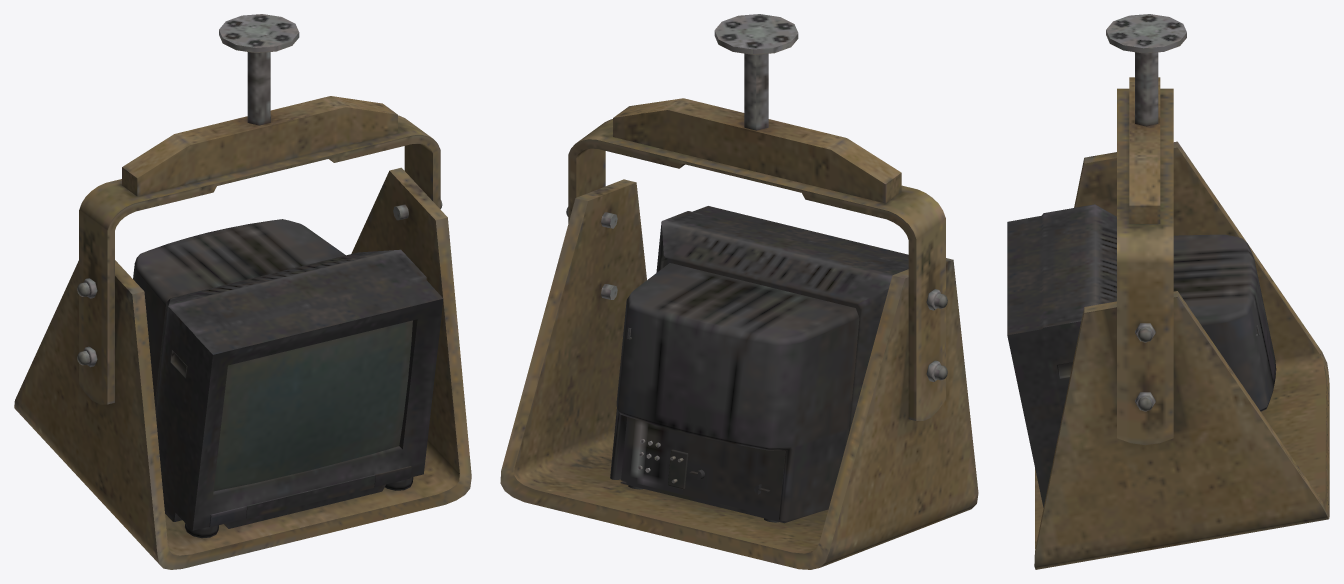
Rendered from 005_ceilingtv01a_00.fbx.
3 views of the same model, side by side, from view 1: azimuth 30°, elevation 25°; view 2: azimuth 150°, elevation 25°; view 3: azimuth 270°, elevation 25° (orthographic). The views are drawn at different scales.
Parts seen in each view (by area): view 1: LOD_1_Group_0_Sub_1__sm31_005_CeilingTV01A_A_Mat, LOD_1_Group_1_Sub_1__sm31_005_CeilingTV01A_A_Mat, LOD_1_Group_2_Sub_1__sm31_005_CeilingTV01A_A_Mat, LOD_1_Group_3_Sub_1__sm31_005_CeilingTV01A_A_Mat; view 2: LOD_1_Group_0_Sub_1__sm31_005_CeilingTV01A_A_Mat, LOD_1_Group_1_Sub_1__sm31_005_CeilingTV01A_A_Mat, LOD_1_Group_2_Sub_1__sm31_005_CeilingTV01A_A_Mat, LOD_1_Group_3_Sub_1__sm31_005_CeilingTV01A_A_Mat; view 3: LOD_1_Group_1_Sub_1__sm31_005_CeilingTV01A_A_Mat, LOD_1_Group_0_Sub_1__sm31_005_CeilingTV01A_A_Mat, LOD_1_Group_2_Sub_1__sm31_005_CeilingTV01A_A_Mat, LOD_1_Group_3_Sub_1__sm31_005_CeilingTV01A_A_Mat.
Boxes of the visible parts, x1,y1,x2,y2 form: LOD_1_Group_0_Sub_1__sm31_005_CeilingTV01A_A_Mat: [133, 219, 443, 538]; LOD_1_Group_1_Sub_1__sm31_005_CeilingTV01A_A_Mat: [14, 167, 471, 569]; LOD_1_Group_2_Sub_1__sm31_005_CeilingTV01A_A_Mat: [77, 96, 442, 404]; LOD_1_Group_3_Sub_1__sm31_005_CeilingTV01A_A_Mat: [219, 14, 299, 125]; LOD_1_Group_0_Sub_1__sm31_005_CeilingTV01A_A_Mat: [610, 206, 908, 523]; LOD_1_Group_1_Sub_1__sm31_005_CeilingTV01A_A_Mat: [500, 179, 978, 569]; LOD_1_Group_2_Sub_1__sm31_005_CeilingTV01A_A_Mat: [566, 98, 947, 420]; LOD_1_Group_3_Sub_1__sm31_005_CeilingTV01A_A_Mat: [714, 14, 798, 130]; LOD_1_Group_1_Sub_1__sm31_005_CeilingTV01A_A_Mat: [1034, 141, 1329, 569]; LOD_1_Group_0_Sub_1__sm31_005_CeilingTV01A_A_Mat: [1007, 204, 1276, 507]; LOD_1_Group_2_Sub_1__sm31_005_CeilingTV01A_A_Mat: [1117, 77, 1173, 445]; LOD_1_Group_3_Sub_1__sm31_005_CeilingTV01A_A_Mat: [1106, 14, 1186, 126].
Size of the model in its own units: 0.8794 by 1.08 by 0.6722.
